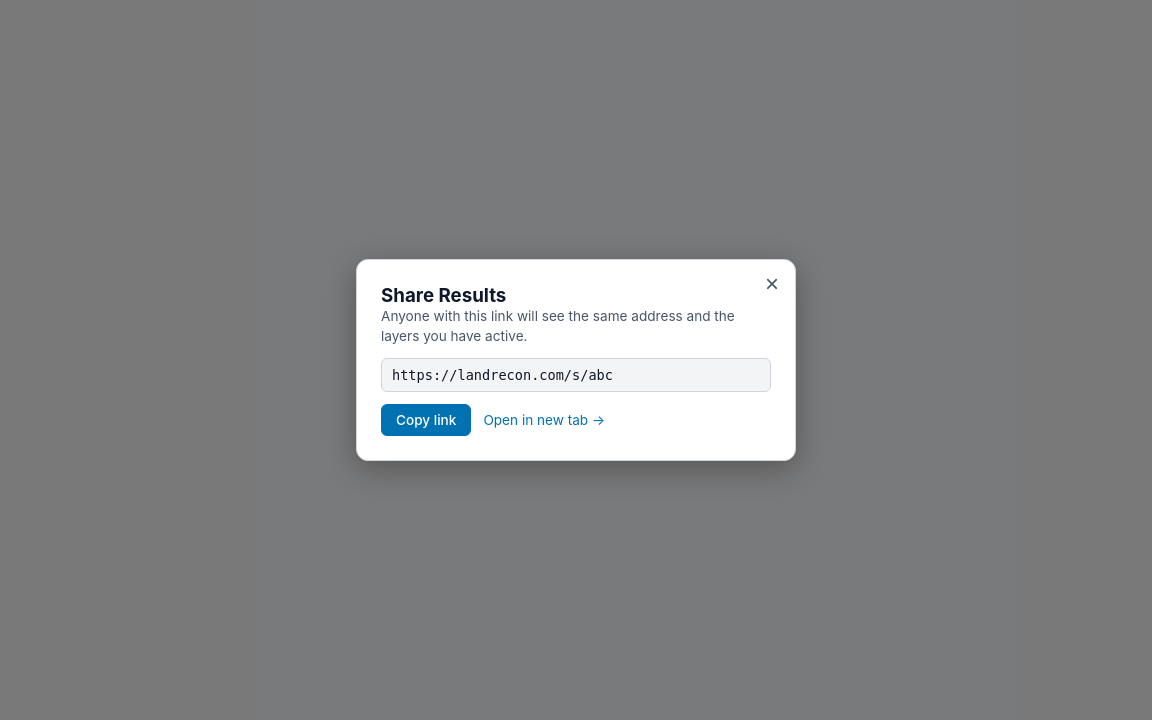
Test: ShareModal › copies the short link and reports success
What coordinates should you click on to do the following:
click the button "Copy link"
I would click on:
 (426, 420)
Its box is [381,404,471,436].
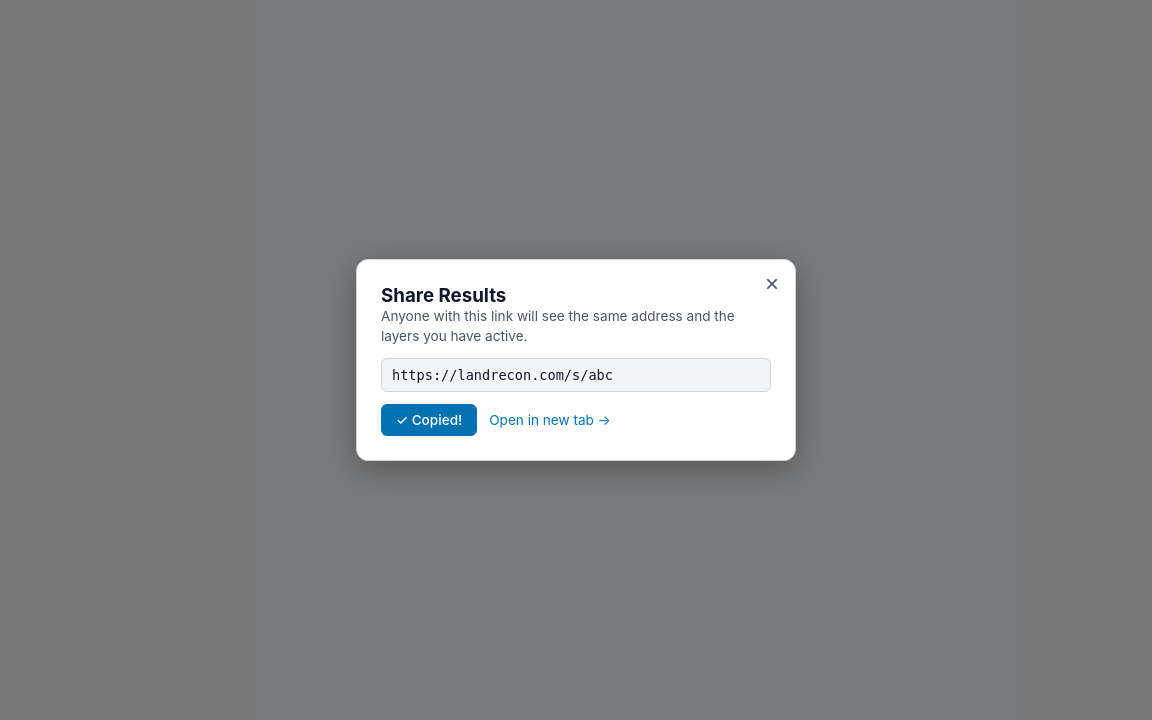
Now the button "✓ Copied!" is shown, box [381,404,477,436]
